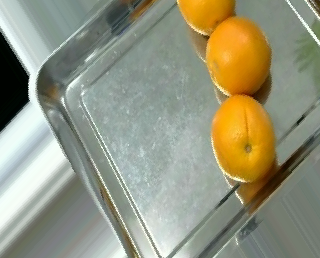Orange: (210, 94, 276, 184), (204, 14, 272, 97)
